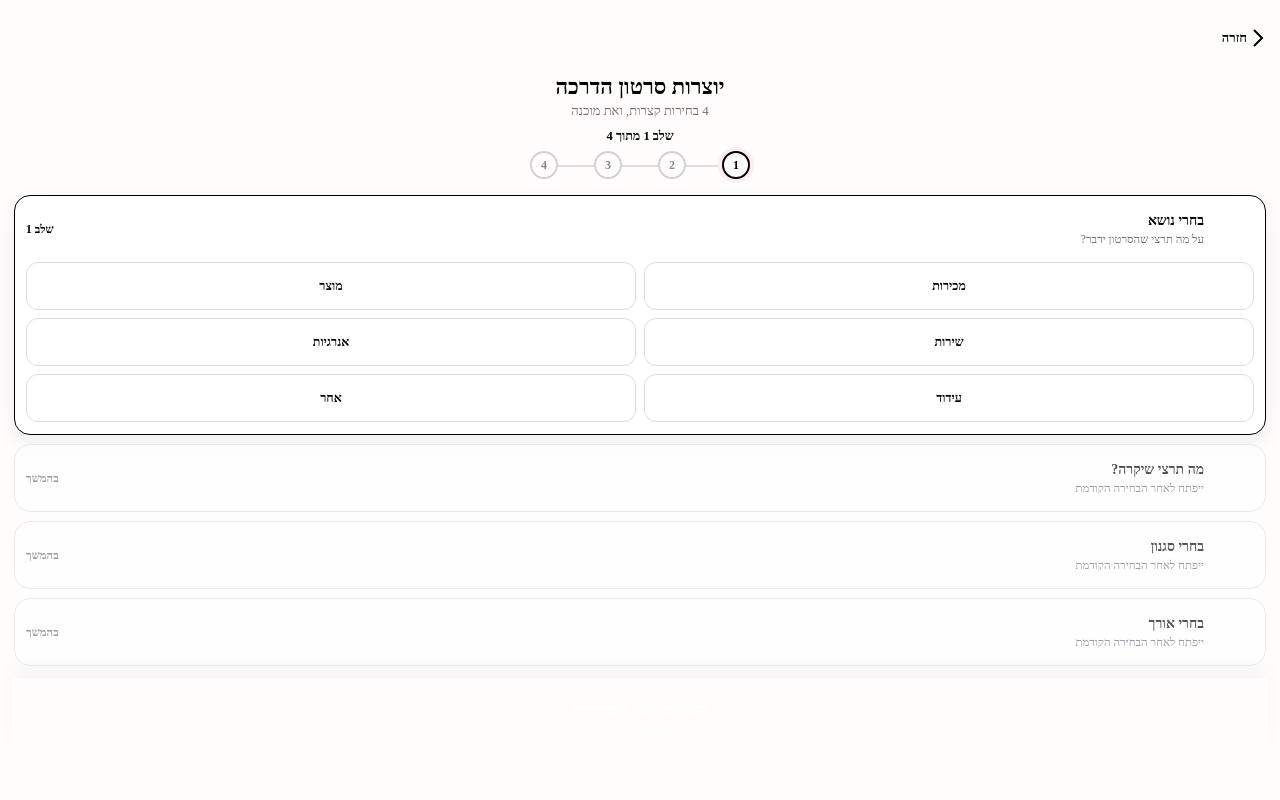
Test: the video wizard › reveals one decision at a time and keeps completed answers editable
Expected: the text "שלב 1 מתוך 4" is shown, top-left (606, 129), bottom-right (674, 144)
Expected: the button "שיציעו מוצר נוסף" is not shown
Click the button "מכירות": (949, 286) top-left (644, 262), bottom-right (1254, 310)
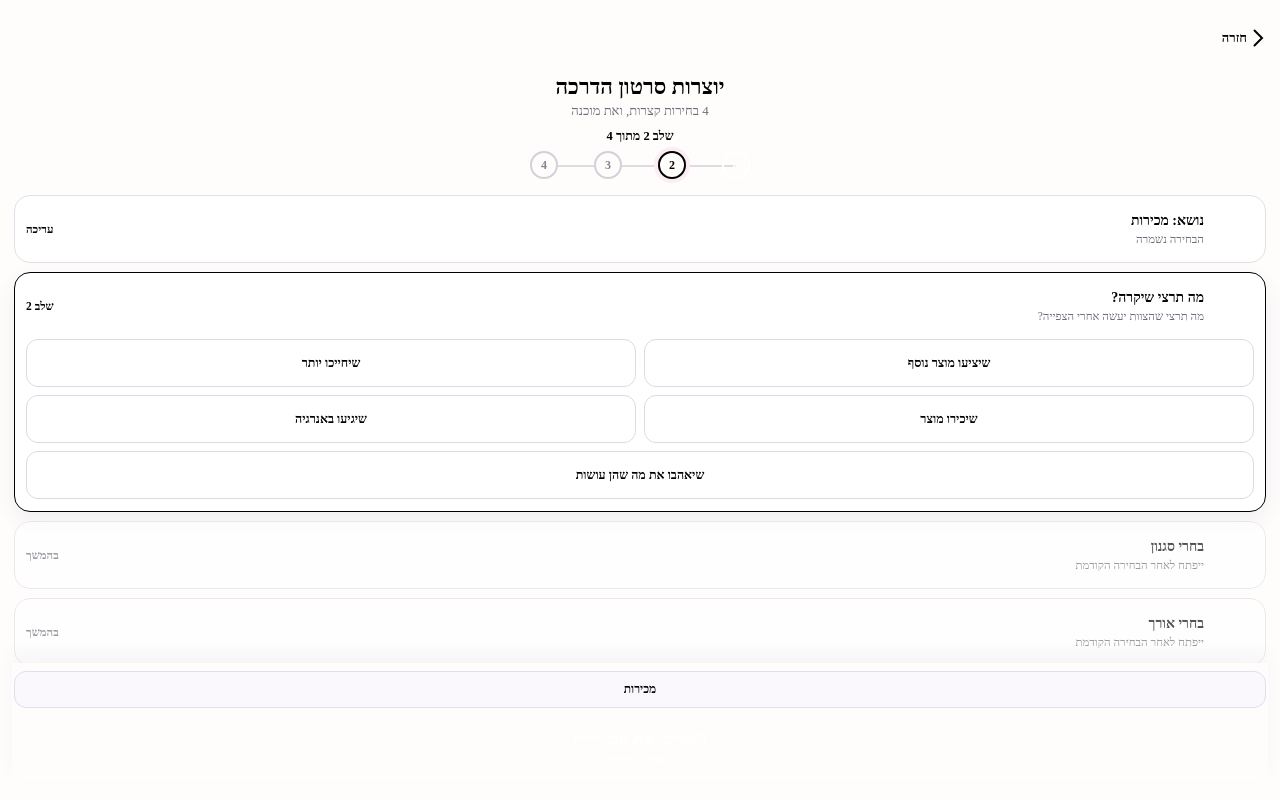
Now the text "שלב 2 מתוך 4" is shown, box top-left (606, 129), bottom-right (674, 144)
Now the button "נושא: מכירות הבחירה נשמרה עריכה" is collapsed
Now the button "2 מה תרצי שיקרה? מה תרצי שהצוות יעשה אחרי הצפייה? שלב 2" is expanded, box top-left (15, 273), bottom-right (1265, 339)
Click the button "נושא: מכירות הבחירה נשמרה עריכה": (1167, 220) top-left (15, 196), bottom-right (1265, 262)
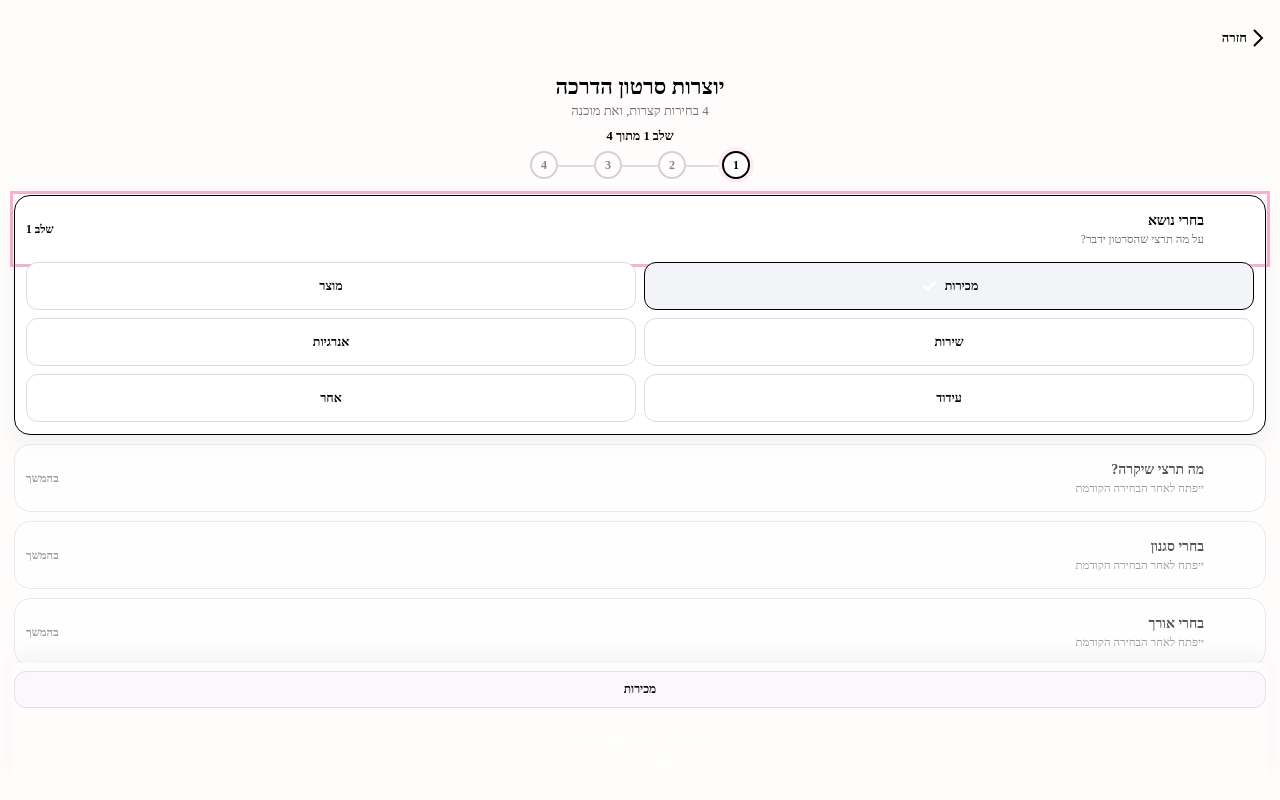
Now the text "שלב 1 מתוך 4" is shown, box top-left (606, 129), bottom-right (674, 144)
